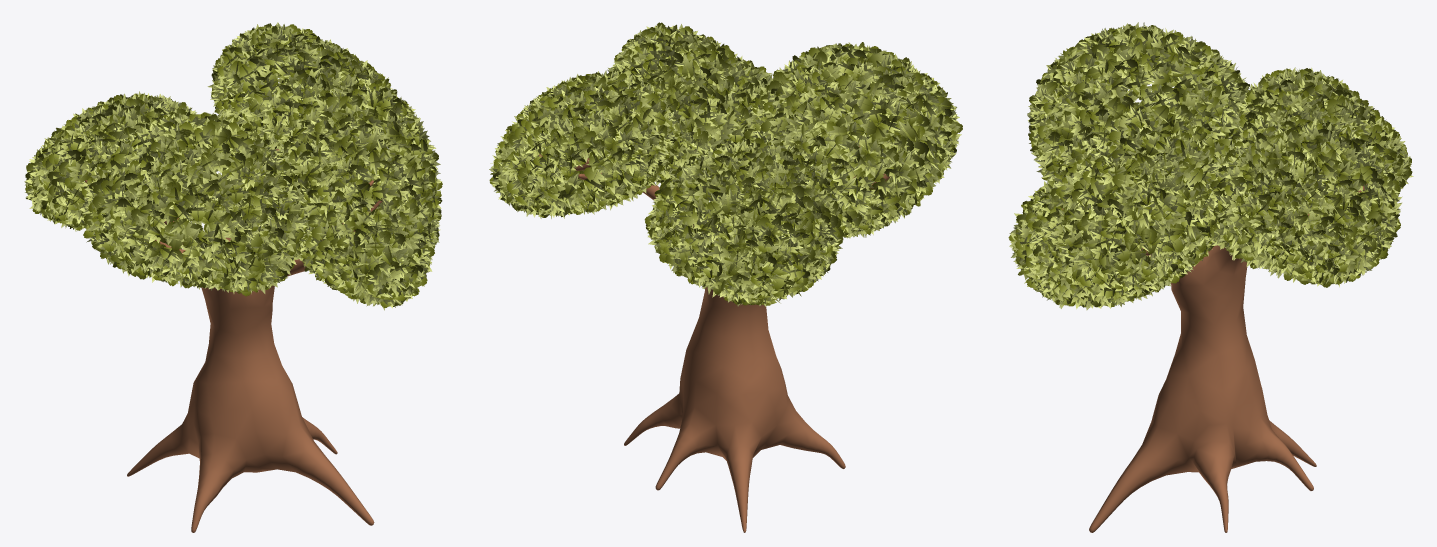
Rendered from Tree-5.fbx.
3 views of the same model, side by side, from view 1: azimuth 30°, elevation 25°; view 2: azimuth 150°, elevation 25°; view 3: azimuth 270°, elevation 25° (orthographic).
Parts seen in each view (by area): view 1: Leaves, Tree-5; view 2: Leaves, Tree-5; view 3: Leaves, Tree-5.
Part boxes in pixels (x1,y1,x2,y2): Leaves: (24, 22, 442, 310); Tree-5: (85, 149, 382, 532); Leaves: (489, 22, 962, 306); Tree-5: (539, 146, 890, 532); Leaves: (1008, 22, 1413, 310); Tree-5: (1062, 184, 1366, 532).
Size of the model in its own units: 3537 by 3844 by 3373.
